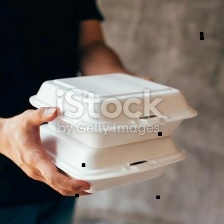foam_box: (21, 69, 199, 150), (26, 118, 189, 195)
